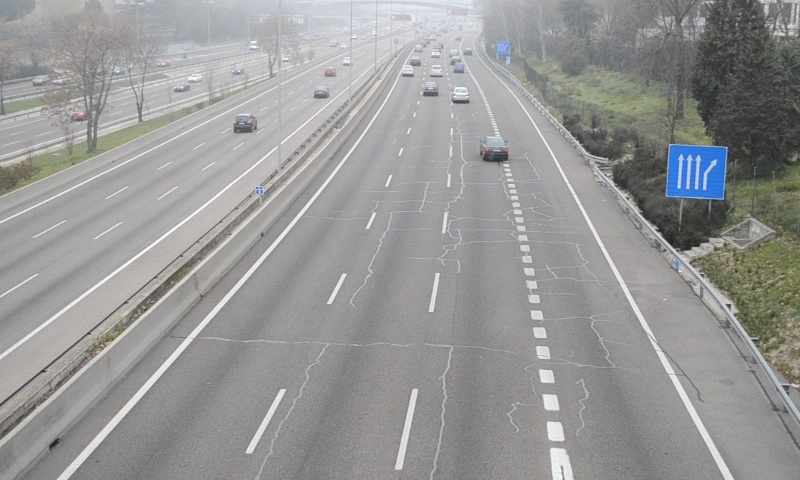car: (480, 136, 510, 162), (451, 86, 470, 104)
